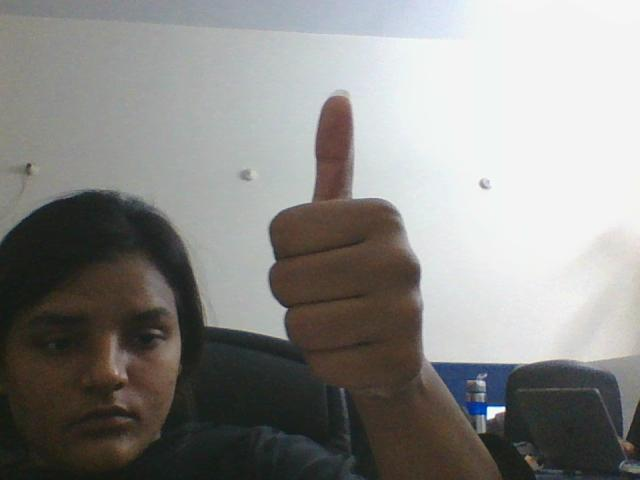thumbs-up: (248, 89, 444, 404)
